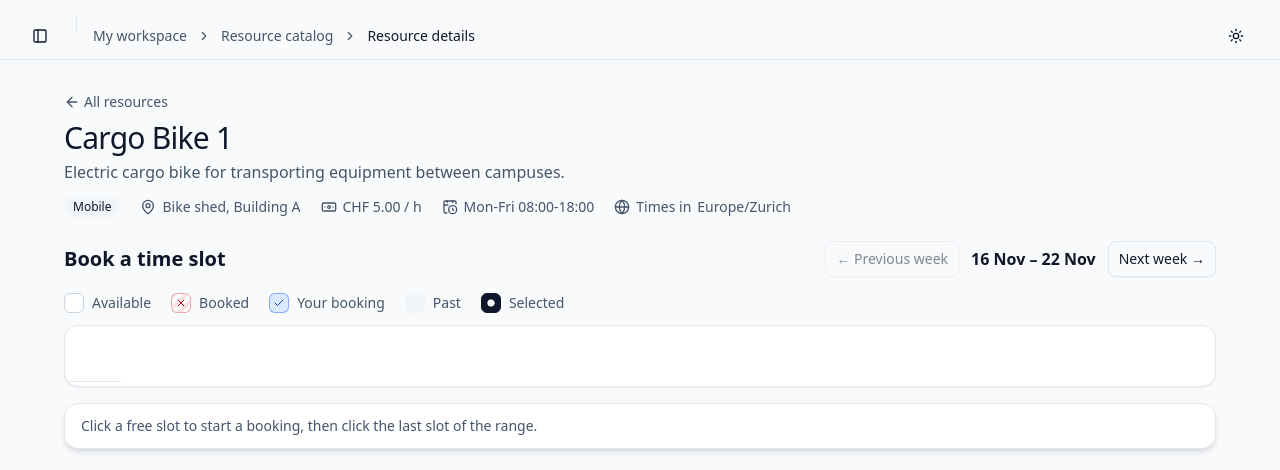
Test: ResourceDetailsPage › allows one more week when the horizon reaches into it
Click the button "Next week →": [1162, 259] box top-left (1108, 241), bottom-right (1216, 277)
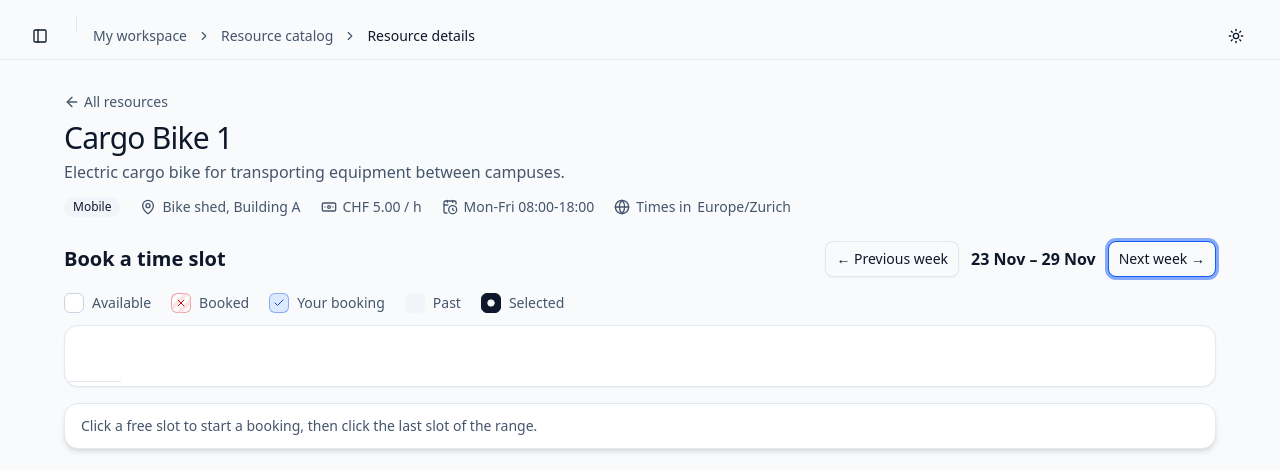
Click the button "Next week →": [1162, 259] box top-left (1108, 241), bottom-right (1216, 277)
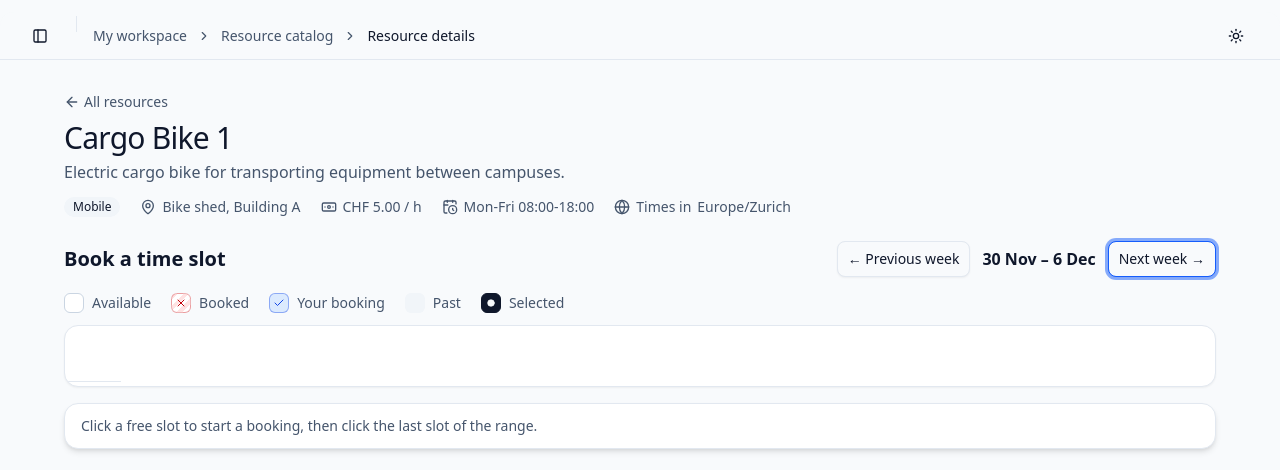
Click the button "Next week →": [1162, 259] box top-left (1108, 241), bottom-right (1216, 277)
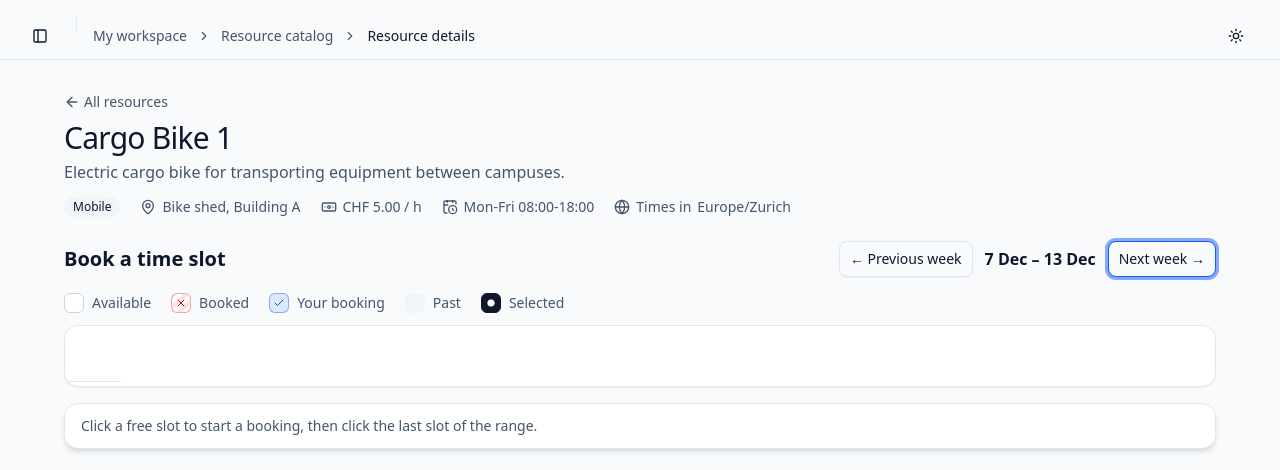
Click the button "Next week →": [1162, 259] box top-left (1108, 241), bottom-right (1216, 277)
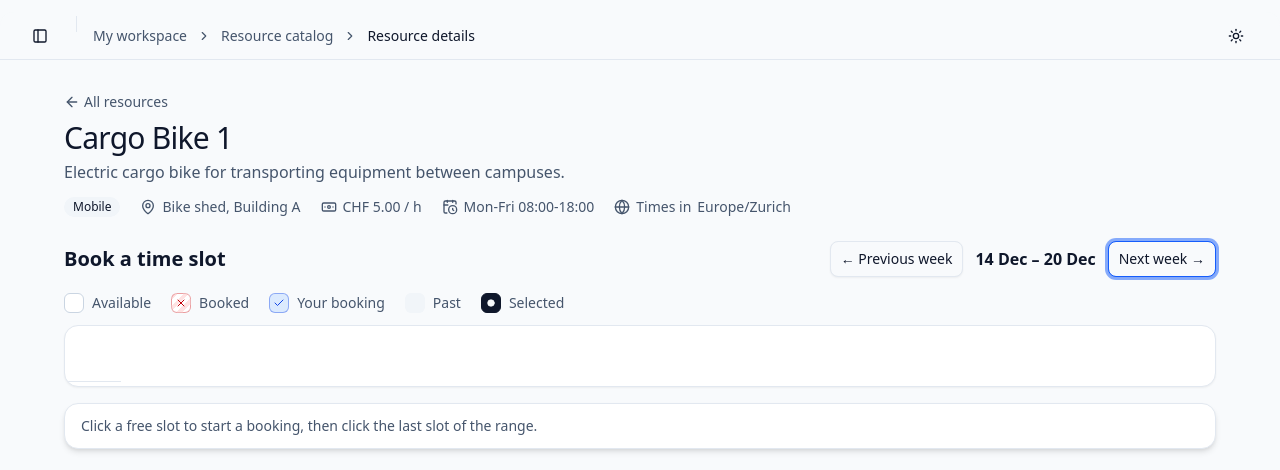
Click the button "Next week →": [1162, 259] box top-left (1108, 241), bottom-right (1216, 277)
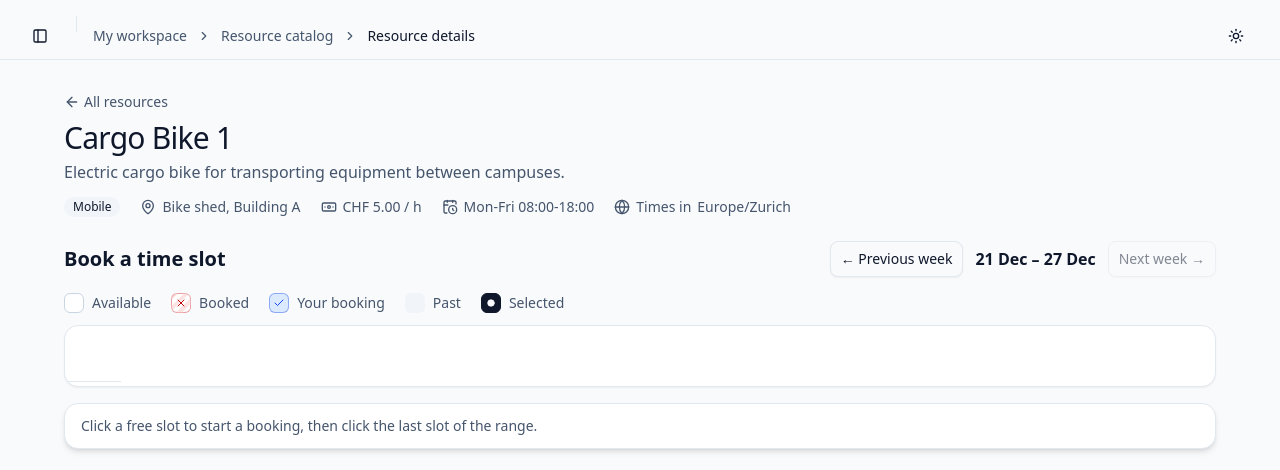
Check: the button "Next week →" is disabled, box top-left (1108, 241), bottom-right (1216, 277)
